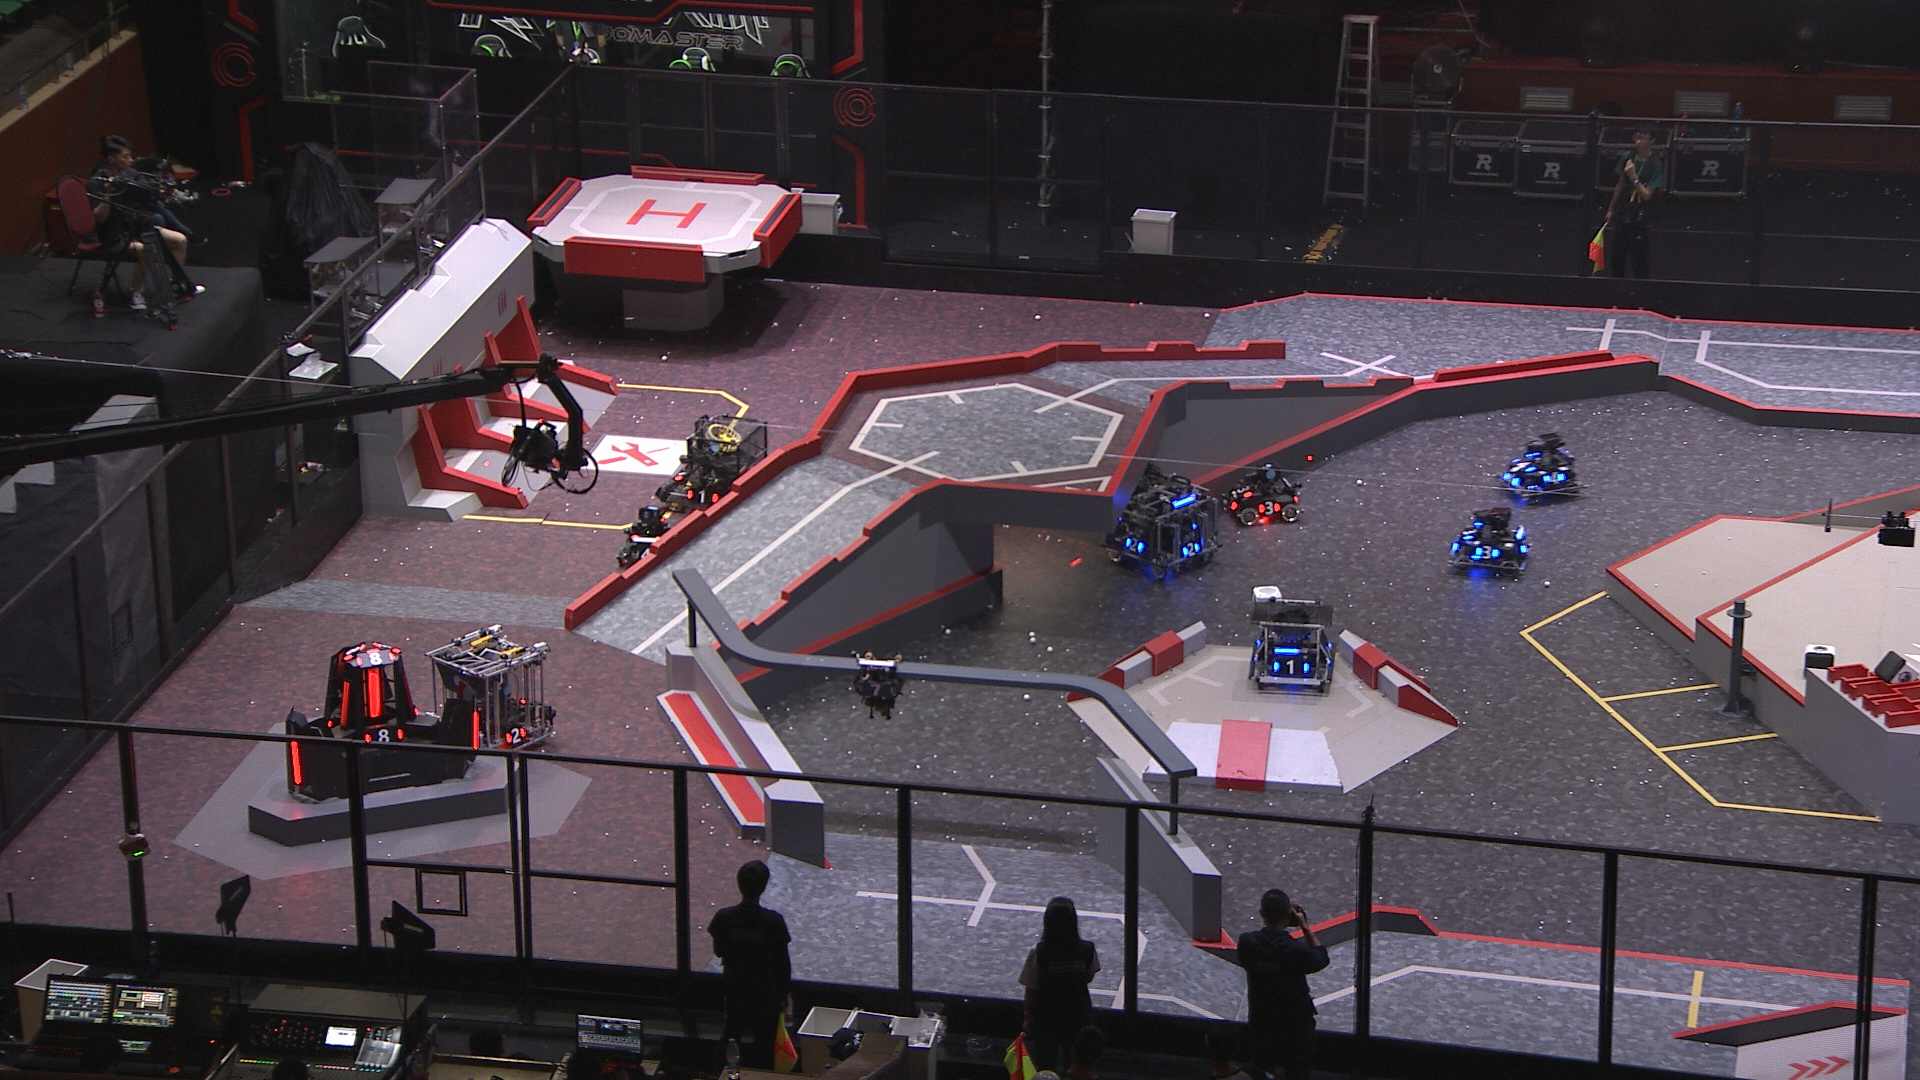armor: (361, 665, 384, 719), (363, 727, 406, 750), (1271, 655, 1313, 678), (684, 487, 723, 506), (339, 678, 352, 727), (353, 651, 396, 665), (502, 725, 527, 746), (290, 741, 302, 785), (860, 683, 894, 698), (1509, 458, 1538, 473), (1120, 537, 1147, 553), (1257, 500, 1282, 517), (342, 642, 365, 659), (1476, 546, 1501, 562), (1179, 542, 1201, 559), (1542, 472, 1567, 487), (472, 711, 480, 754), (632, 547, 654, 562), (1503, 471, 1520, 489), (1234, 484, 1254, 500), (1461, 527, 1480, 542), (1253, 638, 1267, 657), (1324, 642, 1335, 665)
base: (281, 637, 484, 800)
car: (423, 622, 558, 760), (1102, 462, 1222, 578), (651, 413, 769, 520), (1244, 595, 1342, 692), (1494, 431, 1588, 504), (1447, 504, 1534, 578), (1221, 463, 1305, 527), (615, 506, 683, 574)
watcher: (851, 651, 909, 719)
